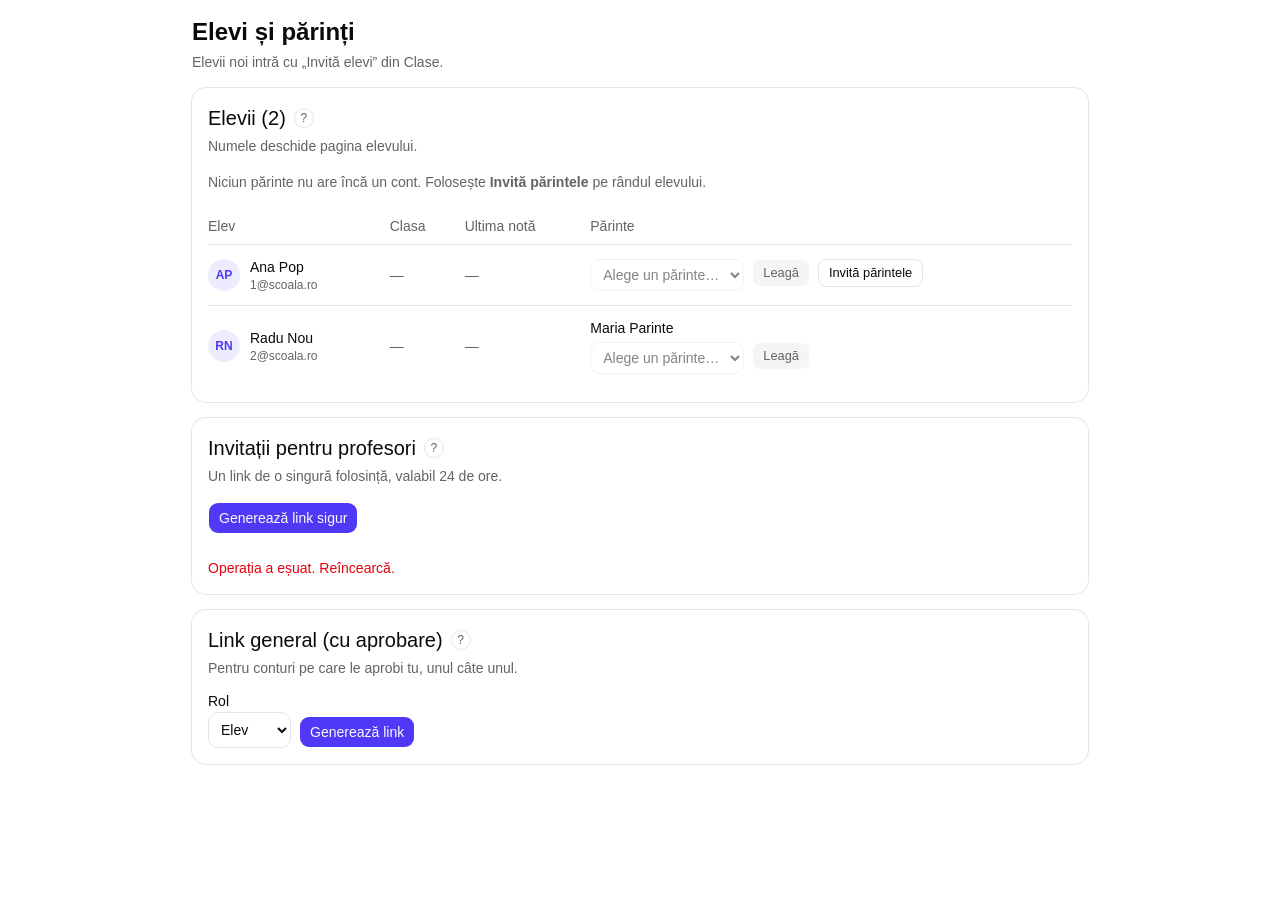
Test: AdminStudentsPage › keeps the long explanation behind a "?"
Expected: the link "Ana Pop" is shown, [250,259,304,275]
Expected: the text "valabil 7 zile: părintele" is not shown
Click the button named "Despre lista de elevi" at coordinates (304, 118), box [294,108,314,128]
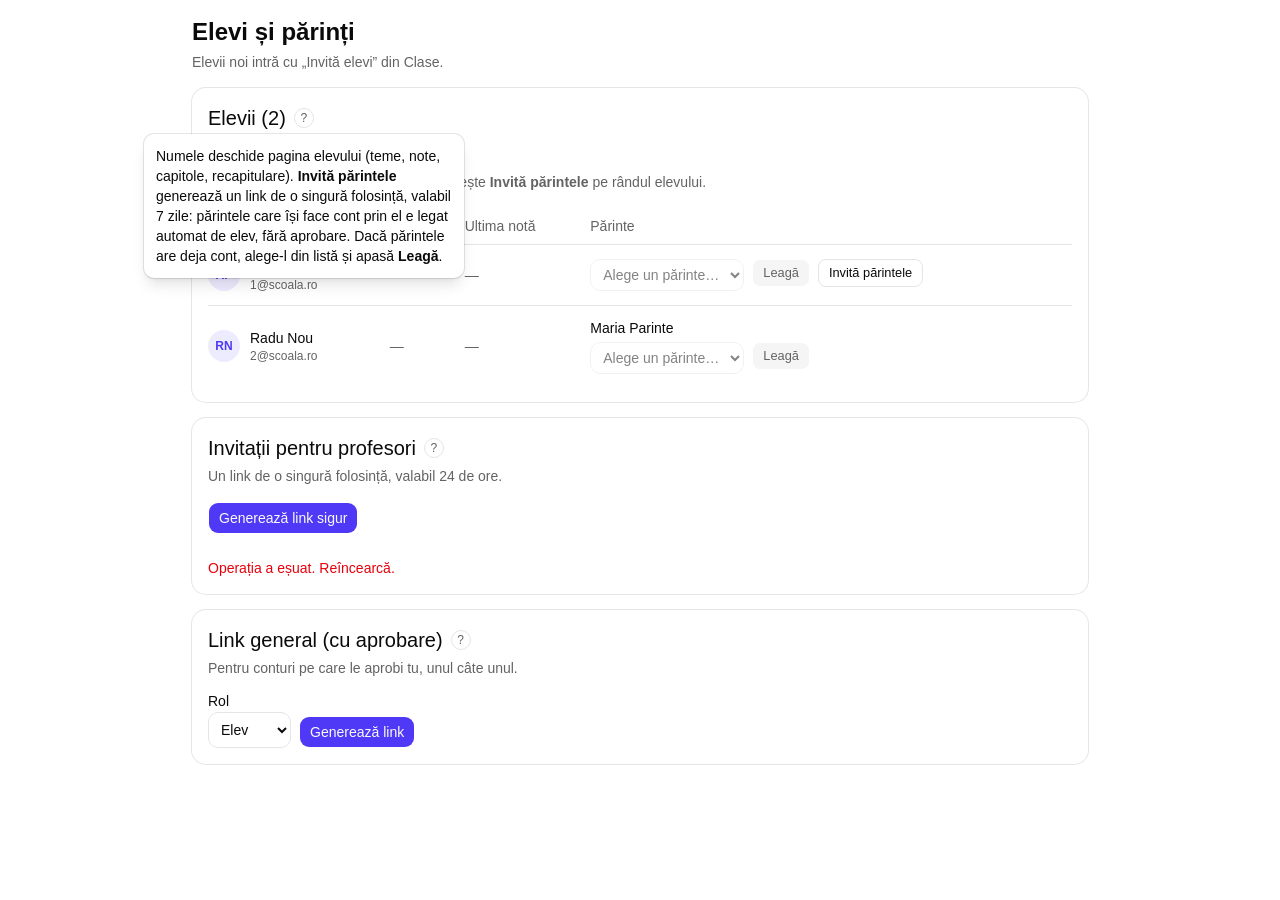
Now the text "valabil 7 zile: părintele" is shown, box [156,188,451,264]
